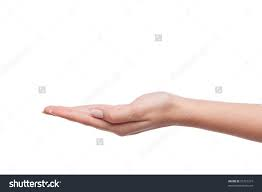hand: (34, 86, 186, 141)
